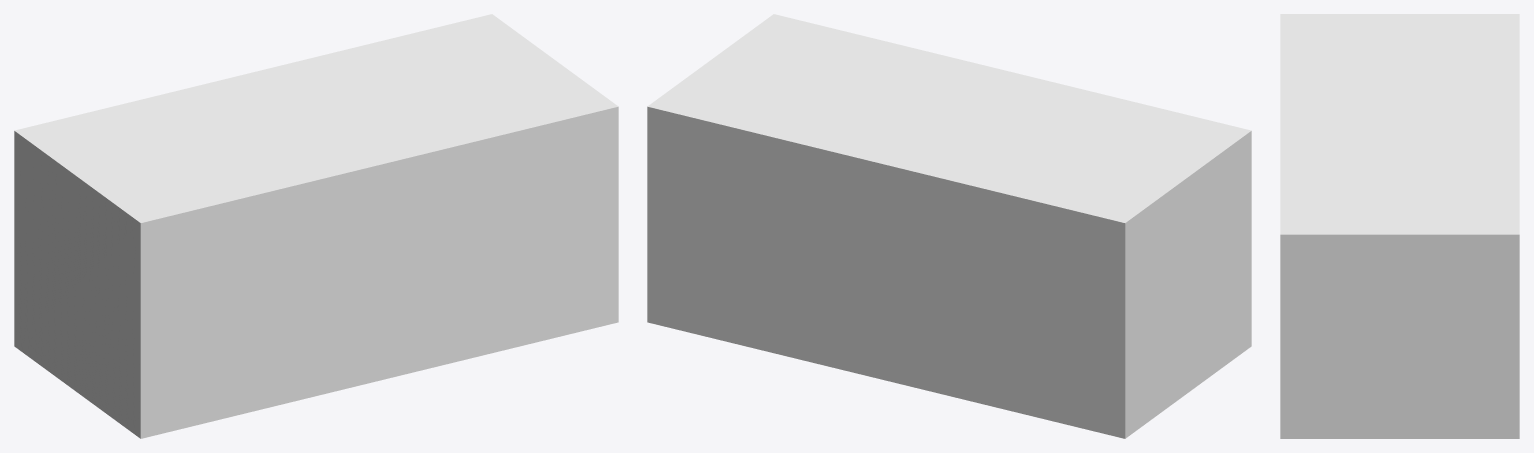
The model's file is BackDrop.fbx.
3 renders of one model, left to right at view 1: azimuth 30°, elevation 25°; view 2: azimuth 150°, elevation 25°; view 3: azimuth 270°, elevation 25°, orthographic. The views are drawn at different scales.
Visible parts, largest first — view 1: Box; view 2: Box; view 3: Box.
Part boxes in pixels (x1,y1,x2,y2): Box: (14, 14, 618, 438); Box: (647, 14, 1251, 438); Box: (1280, 14, 1519, 438).
Size of the model in its own units: 13.32 by 5.84 by 6.11.
